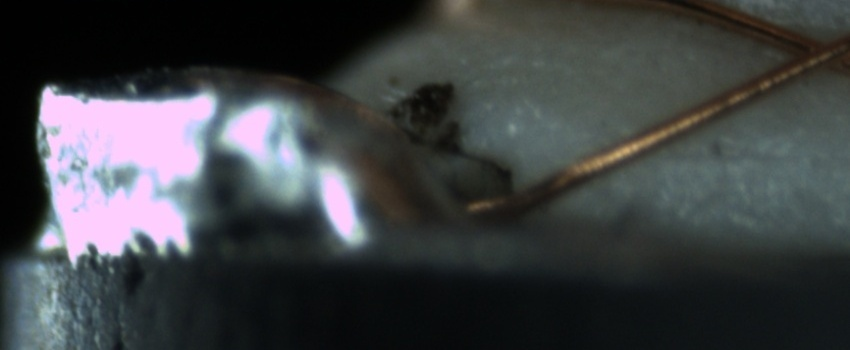CL: (771, 20, 850, 81)
DL: (635, 125, 845, 186)
